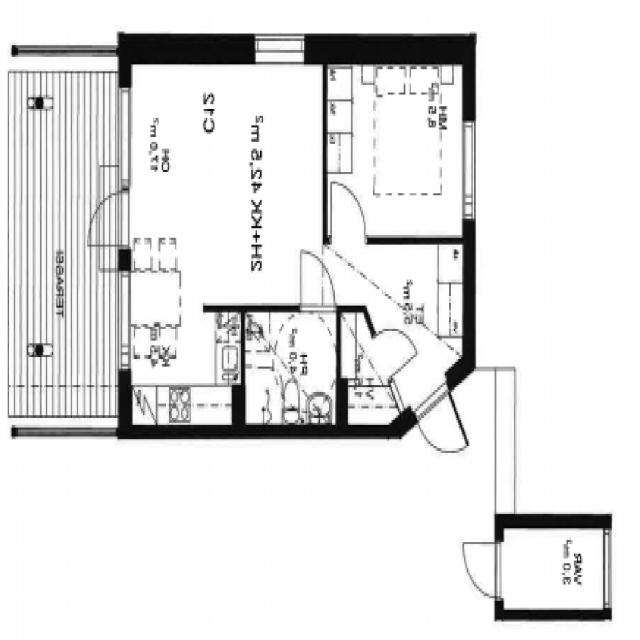door: (412, 371, 470, 473), (372, 305, 418, 377), (84, 190, 130, 246), (460, 541, 504, 595), (301, 247, 335, 311), (331, 182, 365, 242)
